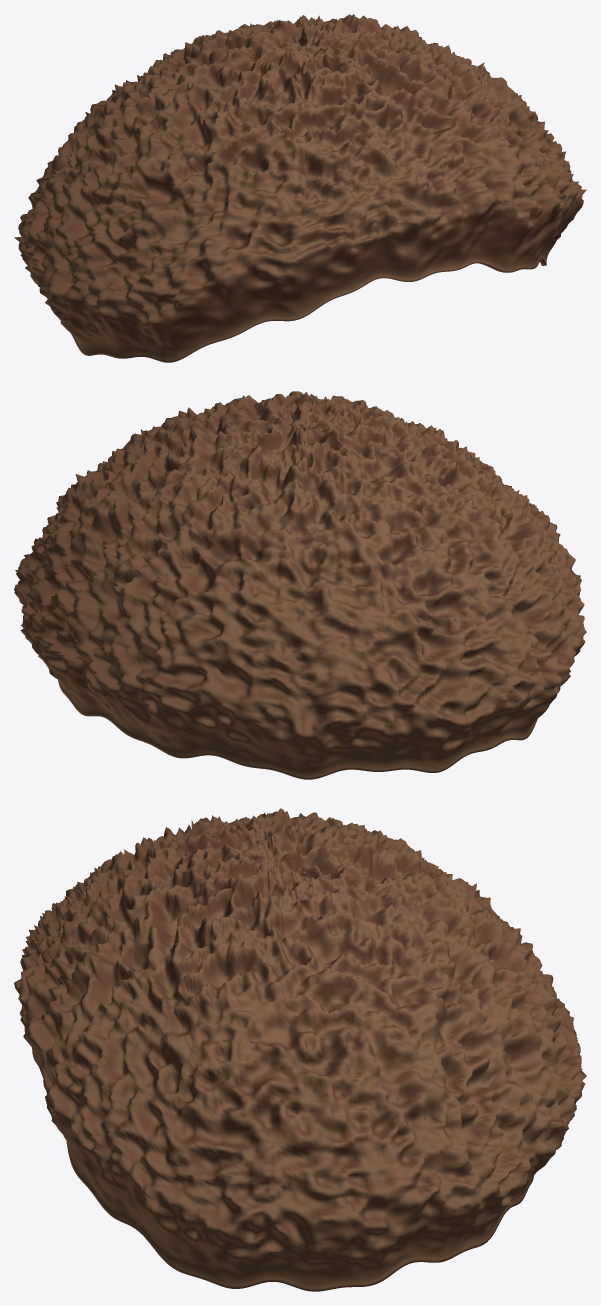
The model's file is Highlights-7b2dde444bbf252-hair.glb.
The picture shows the model from 3 angles, top to bottom: view 1: azimuth 30°, elevation 25°; view 2: azimuth 150°, elevation 25°; view 3: azimuth 270°, elevation 25°; orthographic projection. The views are drawn at different scales.
Visible parts, largest first — view 1: 226 hair / Hair252 / dense natural coil groups; view 2: 226 hair / Hair252 / dense natural coil groups; view 3: 226 hair / Hair252 / dense natural coil groups.
Boxes of the visible parts, left/top/right/bottom form: 226 hair / Hair252 / dense natural coil groups: left=14, top=14, right=586, bottom=362; 226 hair / Hair252 / dense natural coil groups: left=14, top=391, right=586, bottom=779; 226 hair / Hair252 / dense natural coil groups: left=14, top=808, right=586, bottom=1291.
Size of the model in its own units: 1.12 by 0.548 by 0.8871.
1 material, 1 textured.
